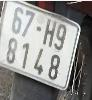1: (22, 41, 30, 69)
4: (33, 47, 46, 76)
6: (10, 7, 22, 35)
7: (23, 9, 36, 38)
8: (48, 53, 62, 82), (5, 37, 18, 64)
9: (55, 21, 67, 50)
H: (41, 18, 56, 46)
